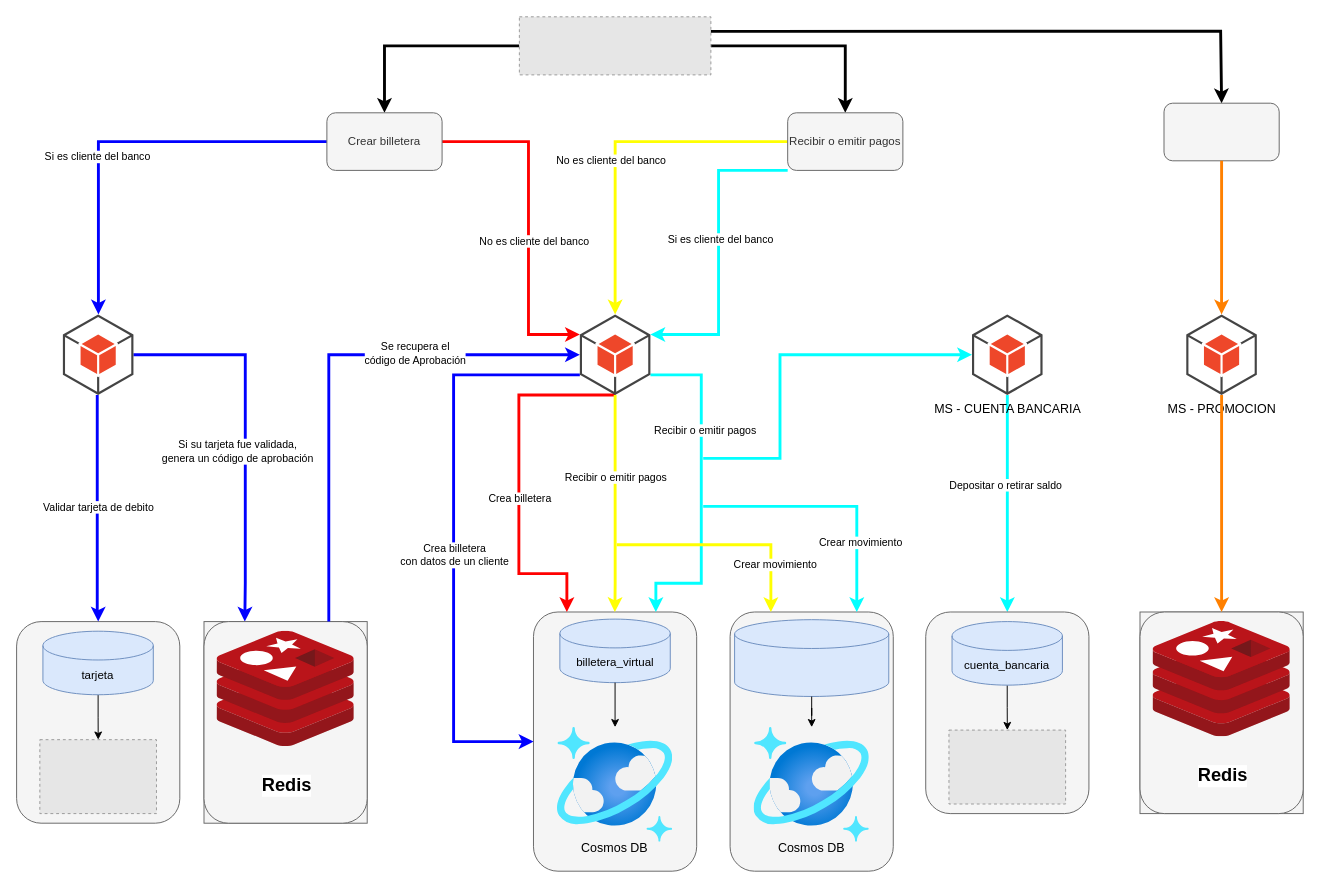
This 1321x888 diagram has some shape labels left out. Grey dashed boxes stand in for pictures. The shapes that lost their labels are listed below. From the top down, each one's centre as x and y in pixels, then its label:
[1221,131]: Crear promociones
[97,354]: MS - TARJETA
[614,354]: MS - BILLETERA DIGITAL
[811,657]: billetera_virtual_movimiento
